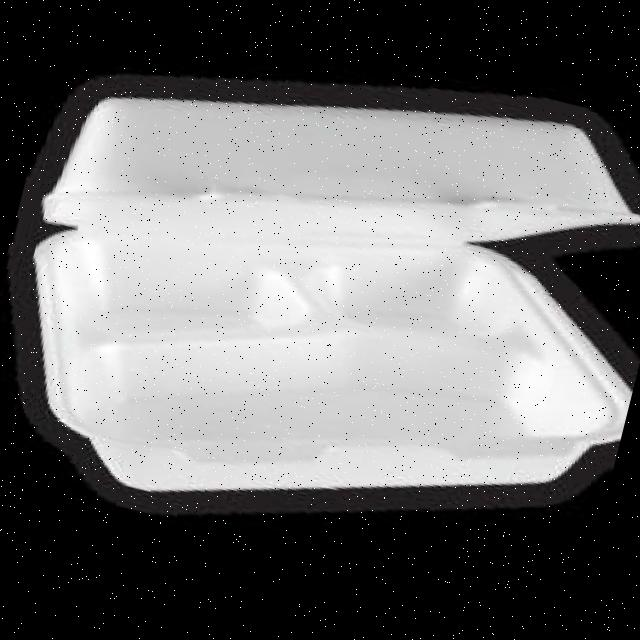styrofoam: (0, 0, 640, 611)
